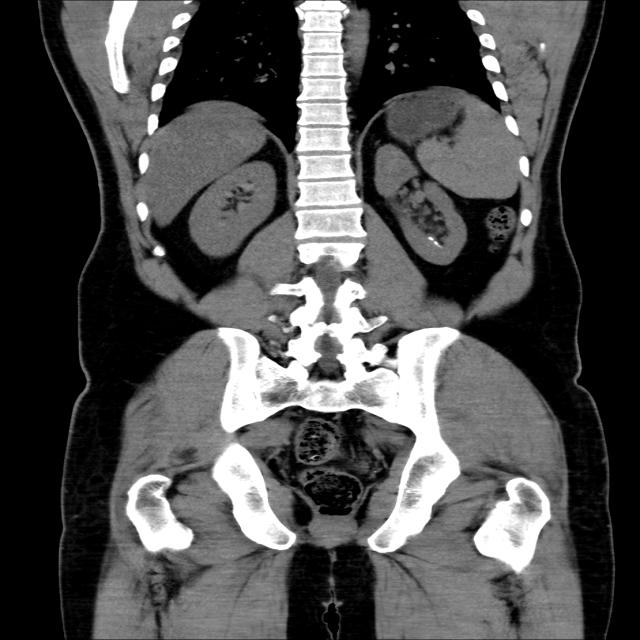kidneystone: (428, 236, 443, 248)
